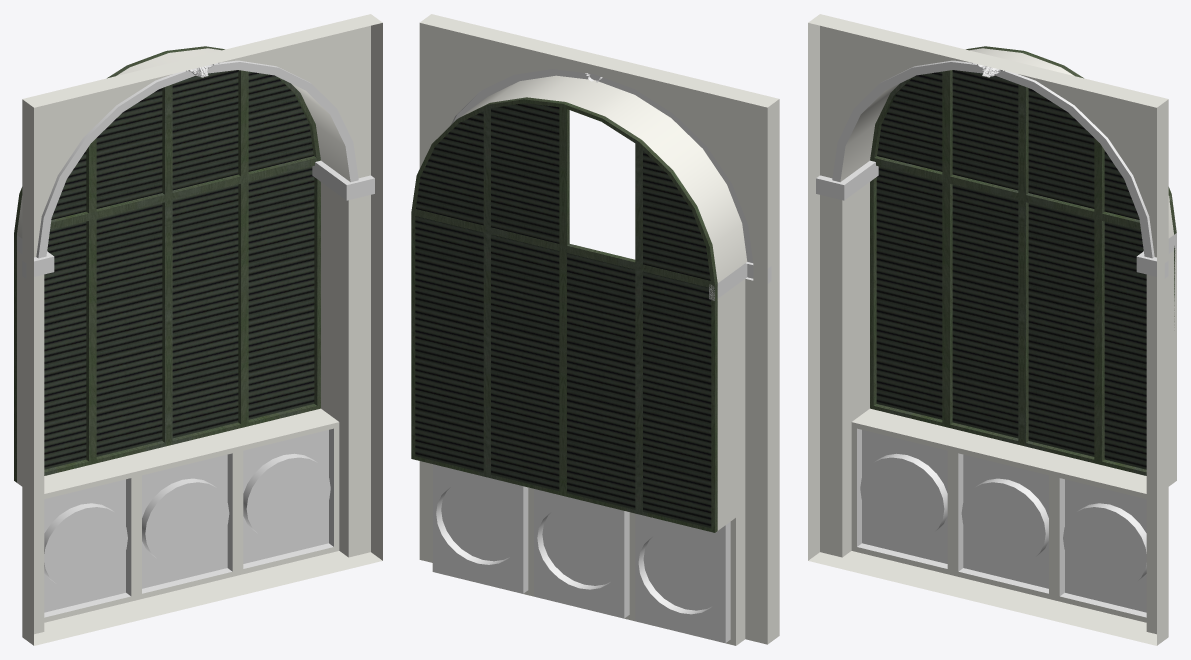
File: window_floor2_behind4.glb
3 views of the same model, side by side, from view 1: azimuth 30°, elevation 25°; view 2: azimuth 150°, elevation 25°; view 3: azimuth 330°, elevation 25° (orthographic).
Visible parts, largest first — view 1: 3DGeom-1, 3DGeom-10.001, 3DGeom-2, 3DGeom-10, 3DGeom-11.001, 3DGeom-11; view 2: 3DGeom-1, 3DGeom-10.001, 3DGeom-10, 3DGeom-2, 3DGeom-11, 3DGeom-11.001; view 3: 3DGeom-1, 3DGeom-10, 3DGeom-2, 3DGeom-10.001, 3DGeom-11, 3DGeom-11.001.
Boxes of the visible parts, box(x1,y1,x2,y2) form: 3DGeom-1: box(17, 14, 382, 645); 3DGeom-10.001: box(172, 70, 314, 438); 3DGeom-2: box(17, 60, 374, 617); 3DGeom-10: box(44, 88, 162, 469); 3DGeom-11.001: box(166, 46, 320, 445); 3DGeom-11: box(14, 51, 168, 482); 3DGeom-1: box(419, 14, 779, 645); 3DGeom-10.001: box(415, 103, 559, 491); 3DGeom-10: box(567, 150, 711, 528); 3DGeom-2: box(433, 69, 771, 642); 3DGeom-11: box(563, 102, 717, 532); 3DGeom-11.001: box(411, 97, 565, 495); 3DGeom-1: box(808, 14, 1176, 645); 3DGeom-10: box(876, 70, 1018, 438); 3DGeom-2: box(816, 60, 1176, 617); 3DGeom-10.001: box(1028, 88, 1146, 469); 3DGeom-11: box(870, 46, 1024, 445); 3DGeom-11.001: box(1022, 51, 1176, 475).
Bounding box in the file's own units: 2.19 × 3.23 × 0.4605.
Materials: 4 (2 with a texture image).
